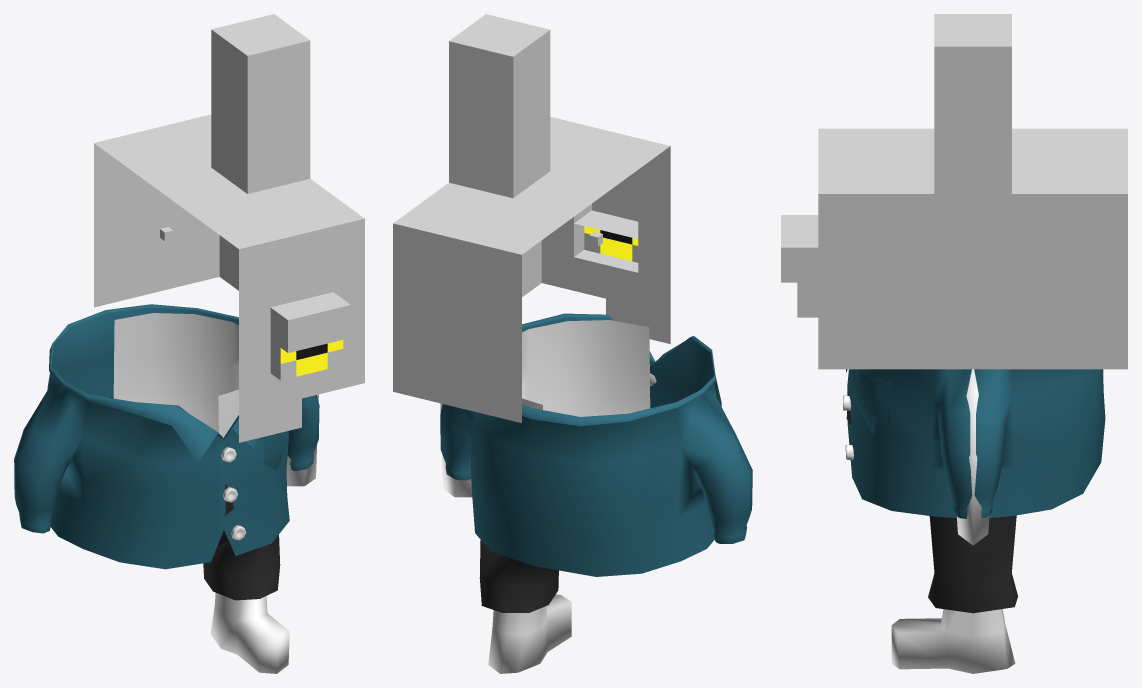
3 renders of one model, left to right at view 1: azimuth 30°, elevation 25°; view 2: azimuth 150°, elevation 25°; view 3: azimuth 270°, elevation 25°, orthographic. The views are drawn at different scales.
Visible parts, largest first — view 1: head, shirt, body, pants, shirt_pocket; view 2: head, shirt, body, pants; view 3: head, shirt, body, pants, shirt_pocket.
Boxes of the visible parts, x1=… form: head: x1=94, y1=14, x2=364, y2=442; shirt: x1=14, y1=304, x2=319, y2=569; body: x1=113, y1=313, x2=318, y2=673; pants: x1=110, y1=397, x2=280, y2=600; shirt_pocket: x1=263, y1=431, x2=288, y2=470; head: x1=393, y1=14, x2=670, y2=422; shirt: x1=440, y1=313, x2=752, y2=576; body: x1=440, y1=320, x2=650, y2=673; pants: x1=479, y1=540, x2=558, y2=612; head: x1=781, y1=14, x2=1127, y2=369; shirt: x1=846, y1=369, x2=1105, y2=518; body: x1=891, y1=369, x2=1015, y2=673; pants: x1=846, y1=389, x2=1017, y2=613; shirt_pocket: x1=854, y1=369, x2=890, y2=433.
Bounding box in the file's own units: 1.8 × 3.44 × 1.67.
